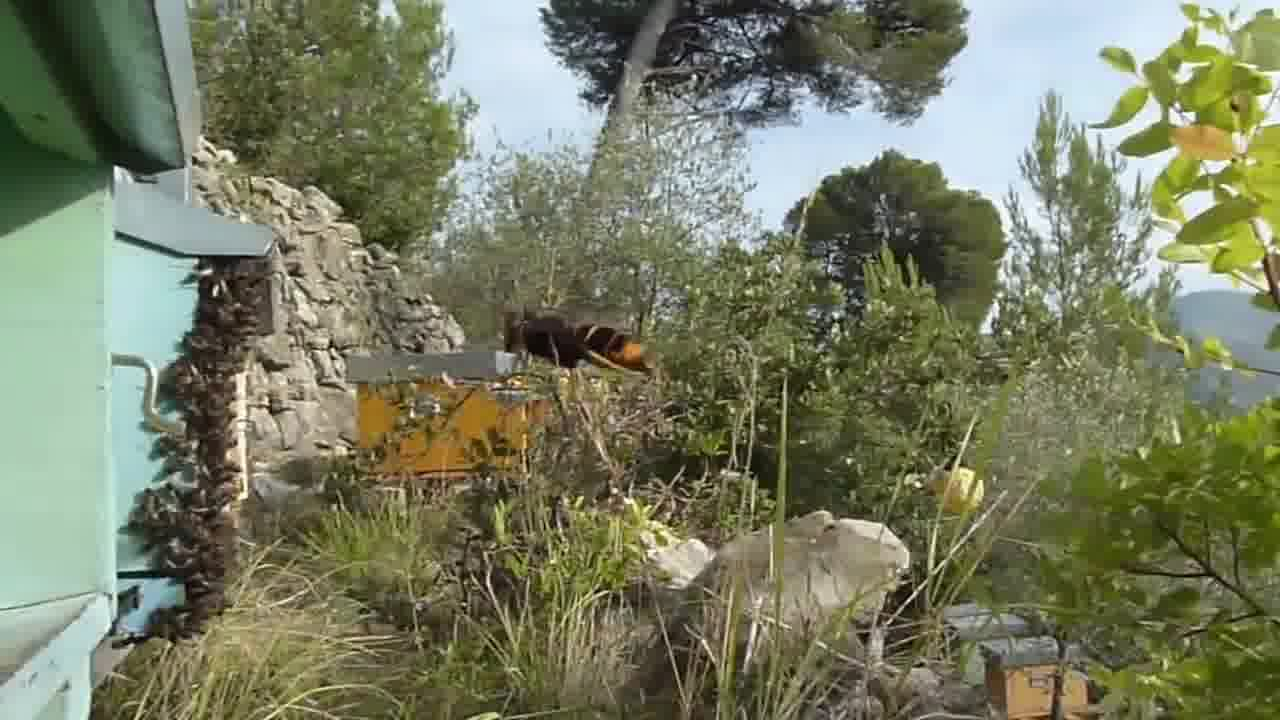bee: (149, 434, 248, 543), (178, 245, 269, 341), (151, 546, 230, 639), (165, 349, 249, 432)
hornet: (490, 295, 651, 386)
